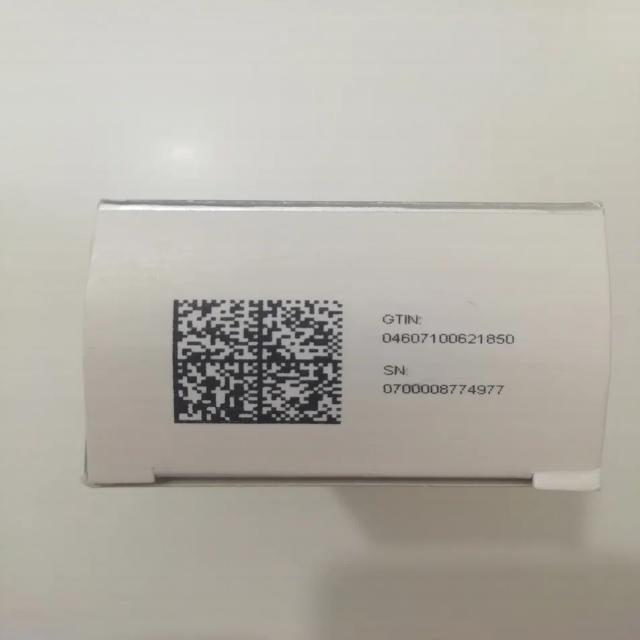datamatrix: (172, 297, 347, 429)
